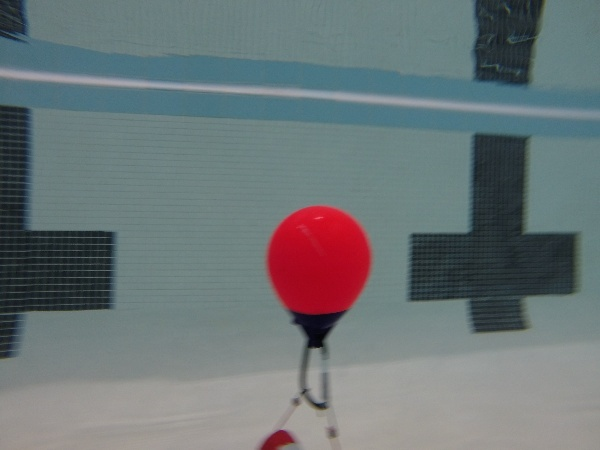buoy_red: (266, 202, 371, 347)
